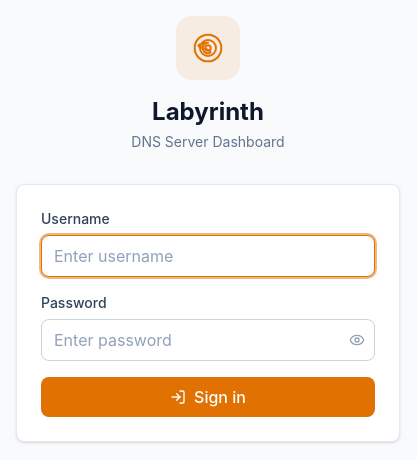
Scenario: LoginPage › disables the submit button while loading
In the field labelled "Username": (208, 256) top-left (41, 235), bottom-right (375, 277), type "admin"
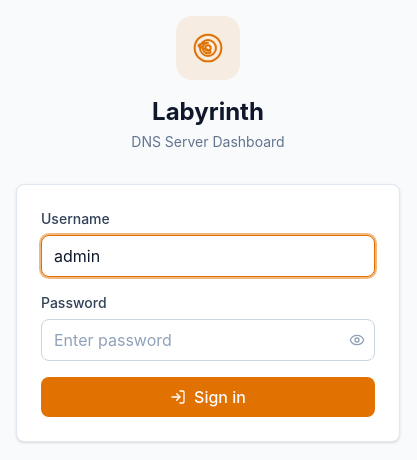
In the password field labelled "Password": (208, 340) top-left (41, 319), bottom-right (375, 361), type "pass"
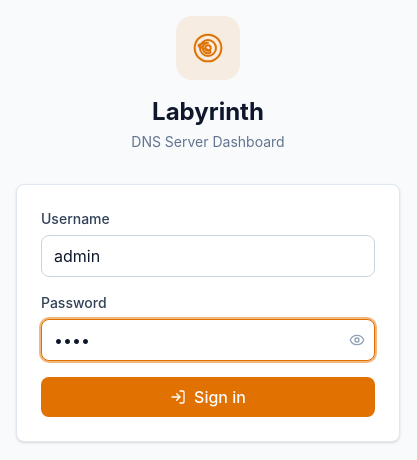
Click the button "Sign in": (208, 397) top-left (41, 377), bottom-right (375, 417)
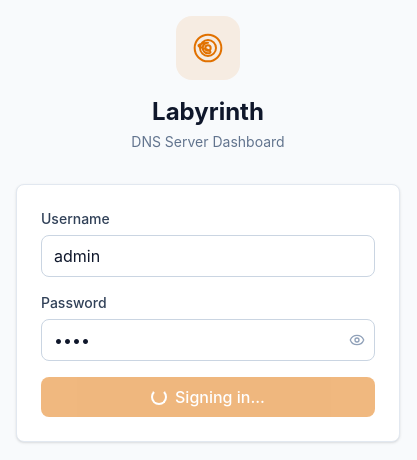
Expected: the button "Signing in..." is disabled, top-left (41, 377), bottom-right (375, 417)
